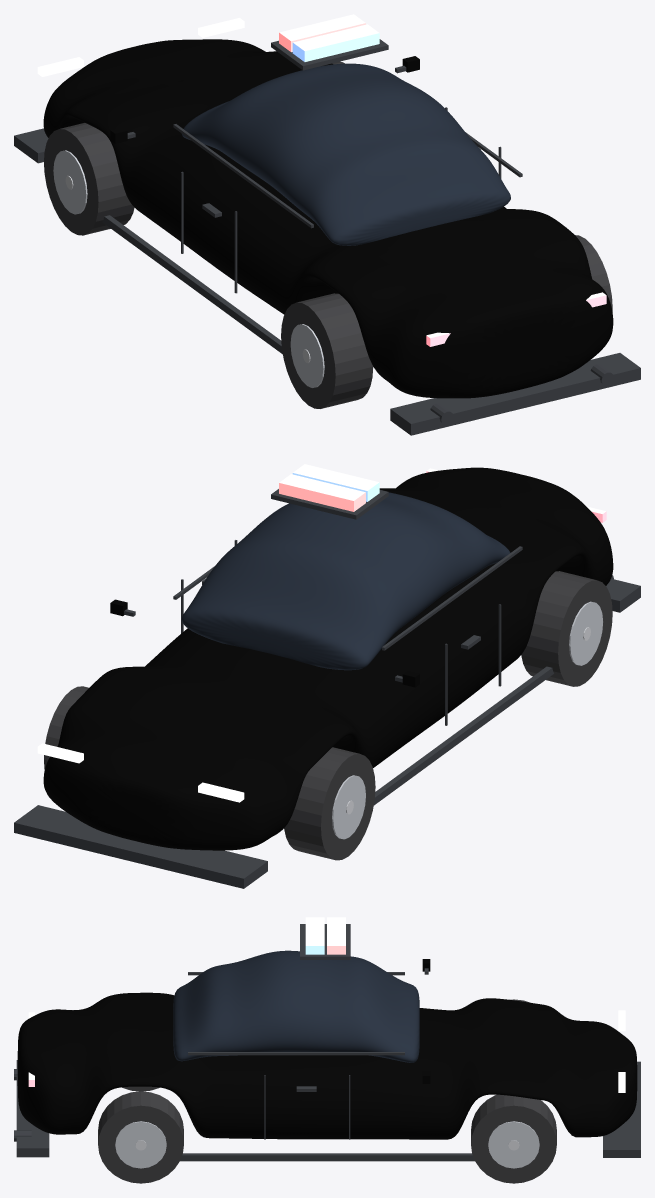
File: police.glb
3 views of the same model, one above another, from view 1: azimuth 30°, elevation 25°; view 2: azimuth 150°, elevation 25°; view 3: azimuth 270°, elevation 25° (orthographic). The views are drawn at different scales.
Parts seen in each view (by area): view 1: Body, Glass, Trim, WheelRL, WheelFL, LightFront, WheelRR; view 2: Body, Glass, Trim, WheelRL, WheelFL, LightFront, WheelFR; view 3: Body, Glass, Trim, WheelRR, WheelFR, LightFront.
Boxes of the visible parts, x1=… form: Body: x1=43, y1=39, x2=613, y2=398; Glass: x1=182, y1=63, x2=510, y2=245; Trim: x1=14, y1=39, x2=640, y2=435; WheelRL: x1=281, y1=293, x2=373, y2=408; WheelFL: x1=44, y1=123, x2=134, y2=235; LightFront: x1=37, y1=14, x2=379, y2=76; WheelRR: x1=575, y1=235, x2=612, y2=311; Body: x1=43, y1=467, x2=613, y2=850; Glass: x1=181, y1=492, x2=510, y2=670; Trim: x1=14, y1=489, x2=640, y2=888; WheelRL: x1=521, y1=571, x2=612, y2=686; WheelFL: x1=284, y1=747, x2=375, y2=860; LightFront: x1=37, y1=464, x2=379, y2=802; WheelFR: x1=44, y1=686, x2=88, y2=769; Body: x1=17, y1=992, x2=637, y2=1139; Glass: x1=173, y1=950, x2=419, y2=1062; Trim: x1=14, y1=924, x2=640, y2=1161; WheelRR: x1=98, y1=1091, x2=183, y2=1183; WheelFR: x1=471, y1=1094, x2=556, y2=1183; LightFront: x1=305, y1=917, x2=625, y2=1092.
Bounding box in the file's own units: 2.19 × 1.74 × 4.96.
Materials: 8 (1 with a texture image).
